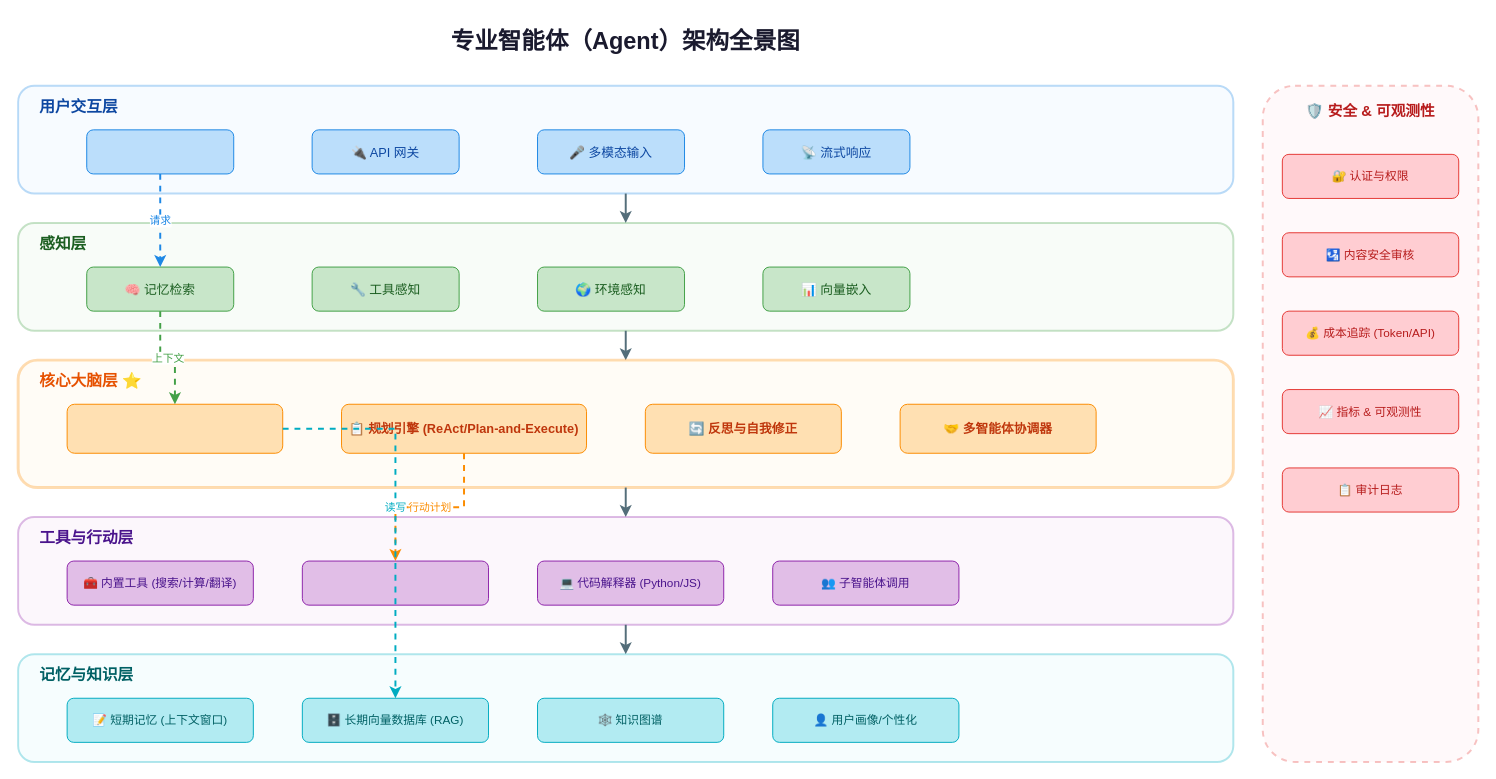
Some shapes in this 1496 by 779 pixel diagram are drawn without their labels. Here are the shapes that lost their labels. From the top down, the box of each, then its label:
(86, 129, 234, 174): 💬 对话界面
(66, 403, 283, 453): 🧠 大模型调度器 (LLM Router)
(301, 560, 489, 605): ☁️ 外部 API (天气/支付/DB)
